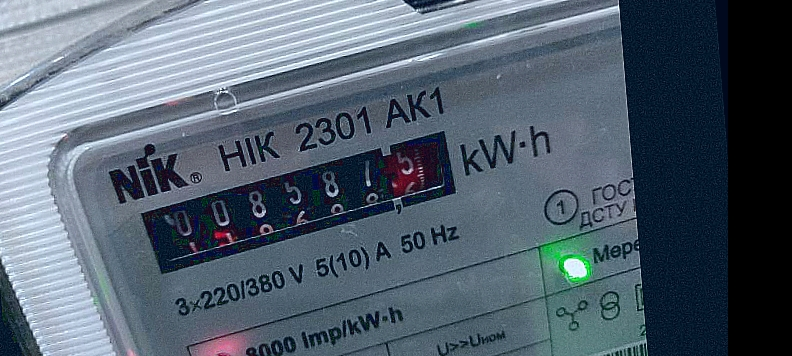0: (206, 193, 235, 229), (169, 204, 197, 238)
5: (281, 174, 306, 207), (392, 143, 417, 176)
6: (400, 178, 420, 196)
7: (354, 155, 379, 191)
8: (244, 186, 271, 220), (317, 165, 343, 200)
screen: (127, 127, 483, 277)
